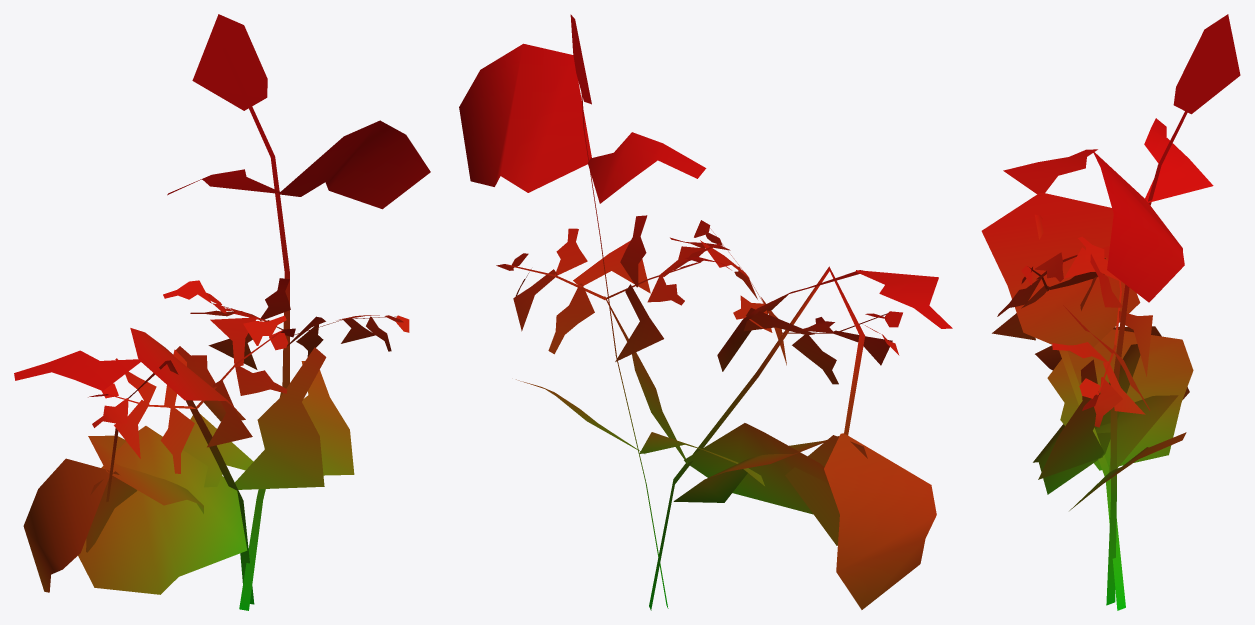
The model's file is White Ramping Fumitory_LOD3_Var5_ti4efc3ia.fbx.
The picture shows the model from 3 angles, left to right: view 1: azimuth 30°, elevation 25°; view 2: azimuth 150°, elevation 25°; view 3: azimuth 270°, elevation 25°; orthographic projection. The views are drawn at different scales.
Parts seen in each view (by area): view 1: _1522_Var5_LOD3; view 2: _1522_Var5_LOD3; view 3: _1522_Var5_LOD3.
Boxes of the visible parts, x1,y1,x2,y2 form: _1522_Var5_LOD3: (14,14,430,610); _1522_Var5_LOD3: (459,14,952,610); _1522_Var5_LOD3: (981,14,1240,610).
Bounding box in the file's own units: 31.17 × 38.55 × 14.96.
